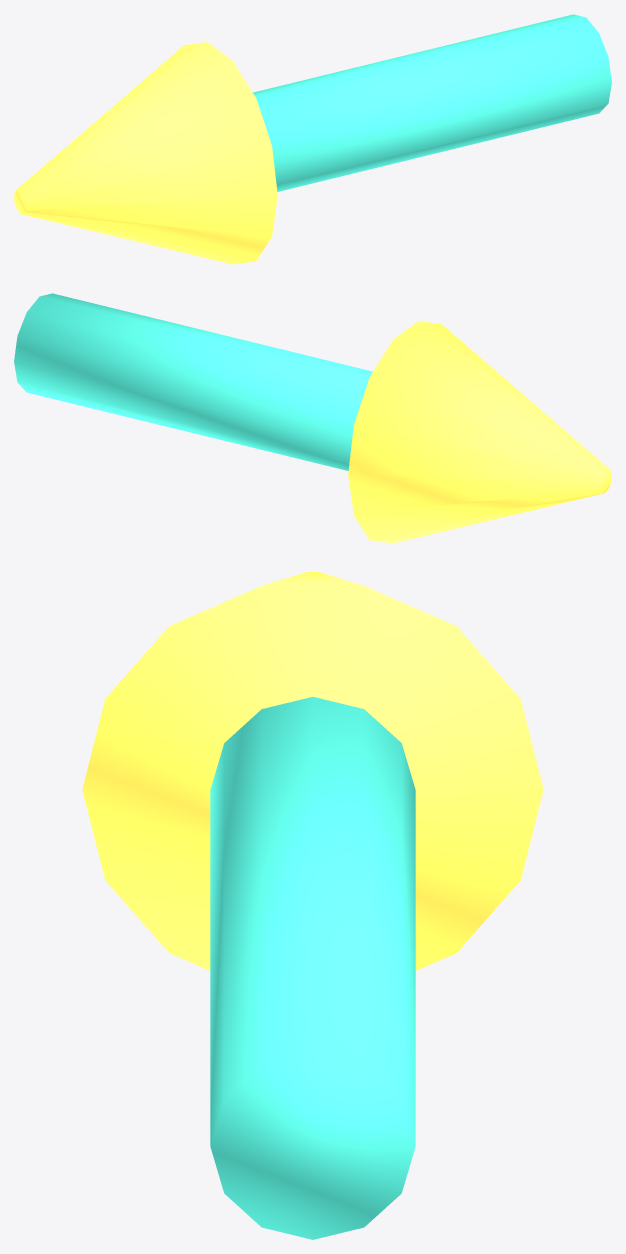
Rendered from Diagram_ConnectorArrow.fbx.
3 views of the same model, one above another, from view 1: azimuth 30°, elevation 25°; view 2: azimuth 150°, elevation 25°; view 3: azimuth 270°, elevation 25° (orthographic). The views are drawn at different scales.
Parts seen in each view (by area): view 1: Arrow_Head, Arrow_Shaft; view 2: Arrow_Head, Arrow_Shaft; view 3: Arrow_Shaft, Arrow_Head.
Boxes of the visible parts, x1,y1,x2,y2 form: Arrow_Head: (14, 42, 277, 264); Arrow_Shaft: (253, 14, 611, 191); Arrow_Head: (348, 321, 611, 543); Arrow_Shaft: (14, 293, 372, 470); Arrow_Shaft: (210, 697, 415, 1239); Arrow_Head: (82, 572, 543, 970).
Bounding box in the file's own units: 5.1 × 1.75 × 1.8.
